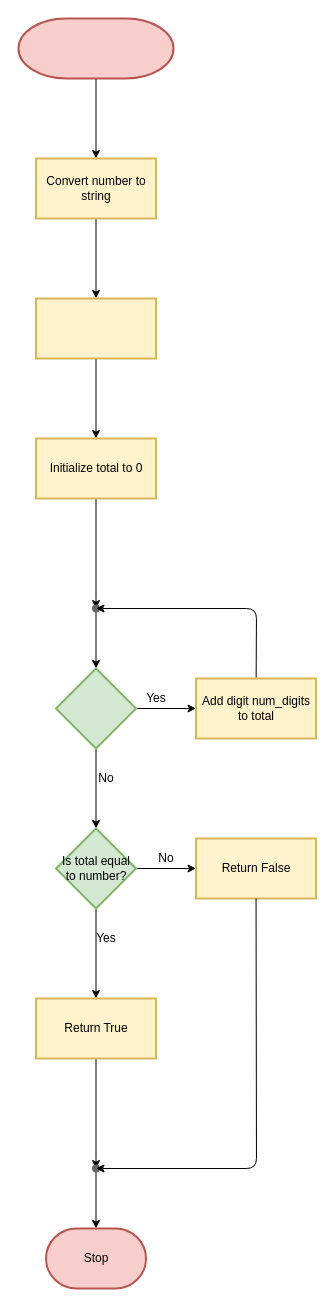
The diagram is 334 pixels wide and 1306 high, and some of its shapes have lost their labels. The centre of each missing label's shape, as x and y in pixels:
"for each digit in sting" belongs at [95,708].
"Get number of digits" belongs at [95,328].
"Is_armstrong(number)" belongs at [95,48].
